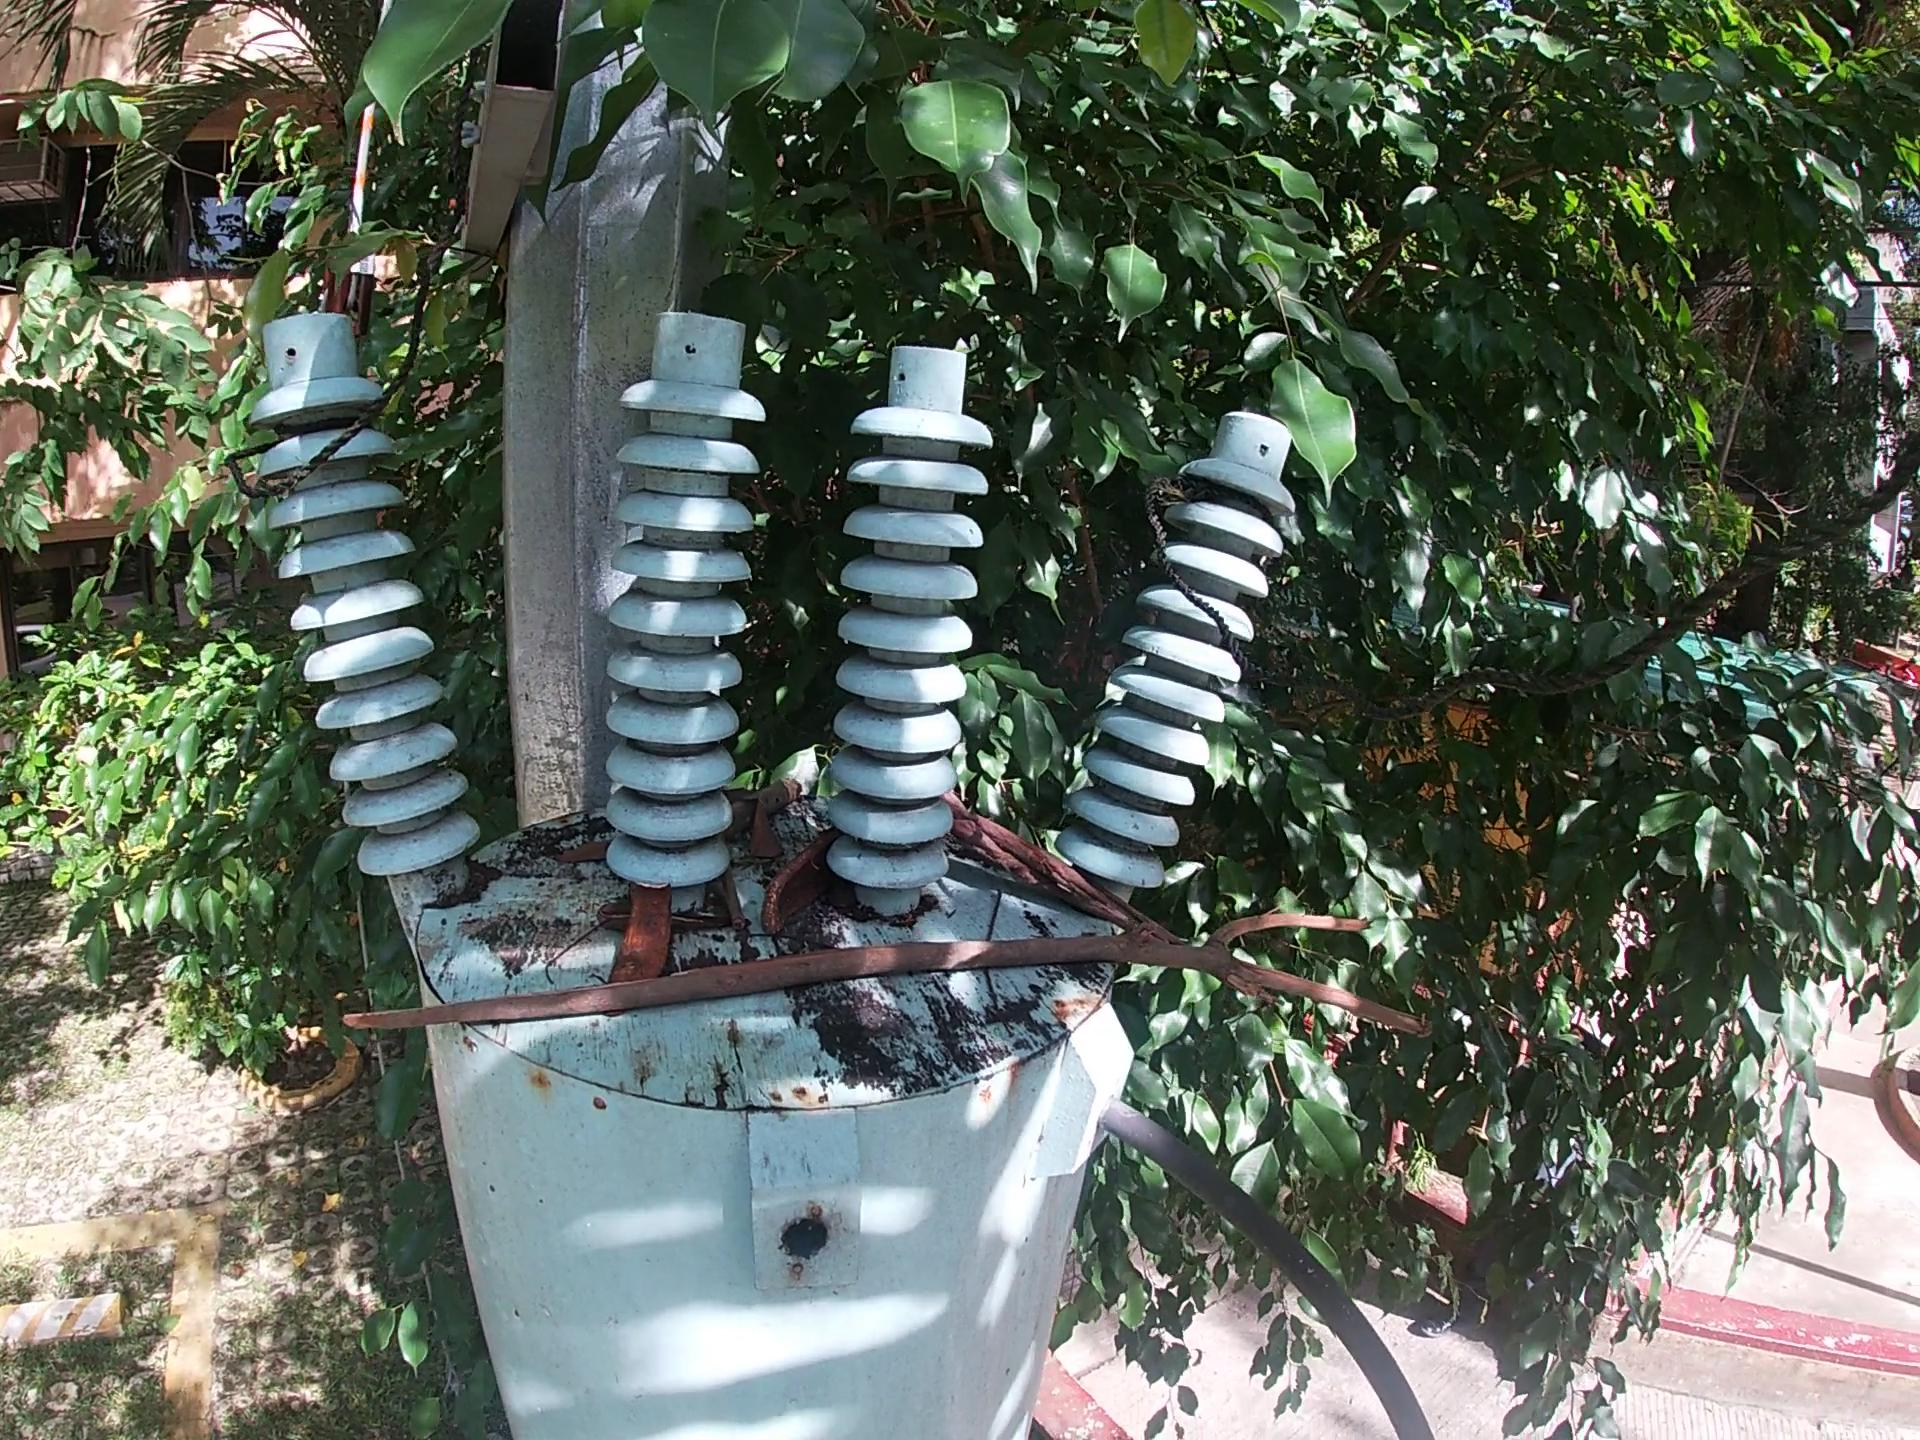leaf: (742, 794, 786, 871), (555, 838, 615, 871), (593, 892, 630, 941)
mahogany fruit: (757, 824, 844, 938), (605, 874, 677, 994)
tree branch: (333, 902, 1445, 1045), (943, 781, 1267, 997), (723, 781, 800, 844), (720, 865, 751, 933)
